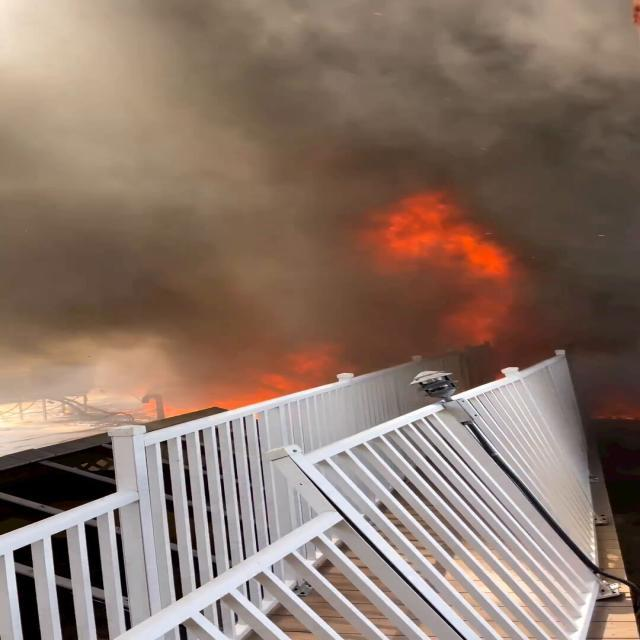Smoke: (46, 134, 310, 370), (403, 55, 593, 194)
